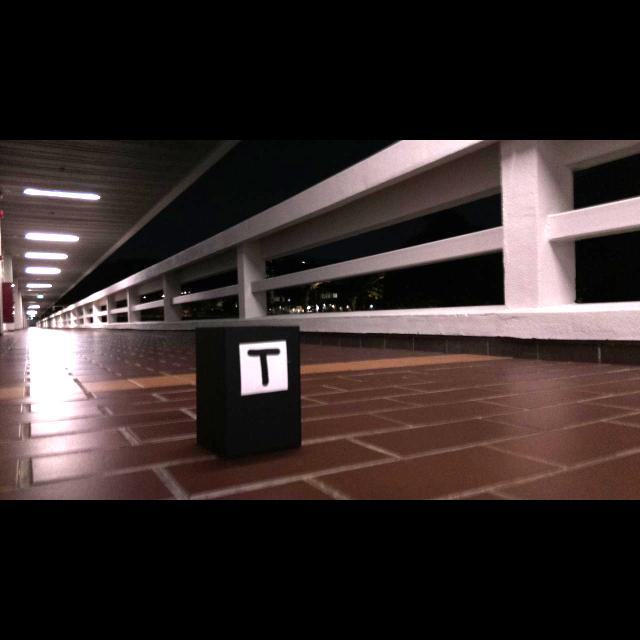T: (247, 348, 281, 387)
